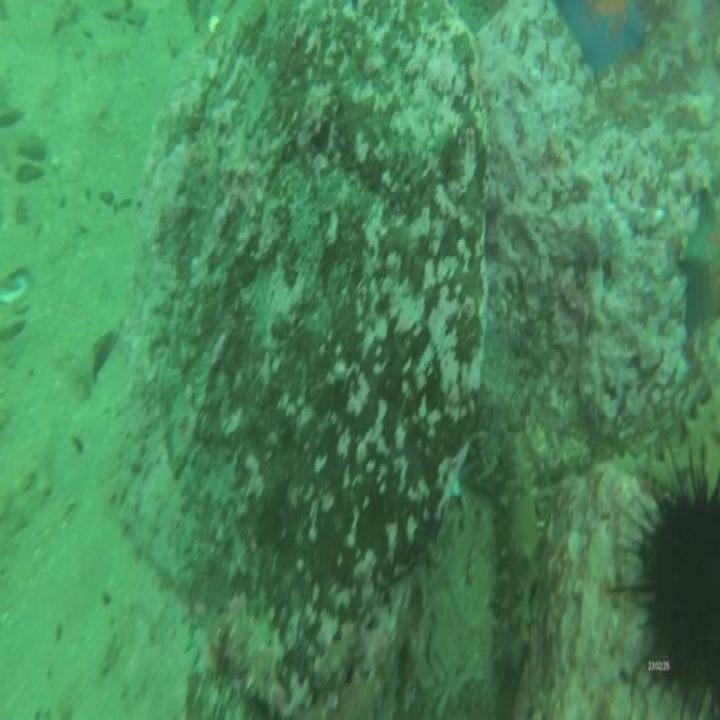echinus: (648, 491, 720, 711)
holothurian: (497, 434, 536, 666)
starfish: (557, 5, 645, 71)
